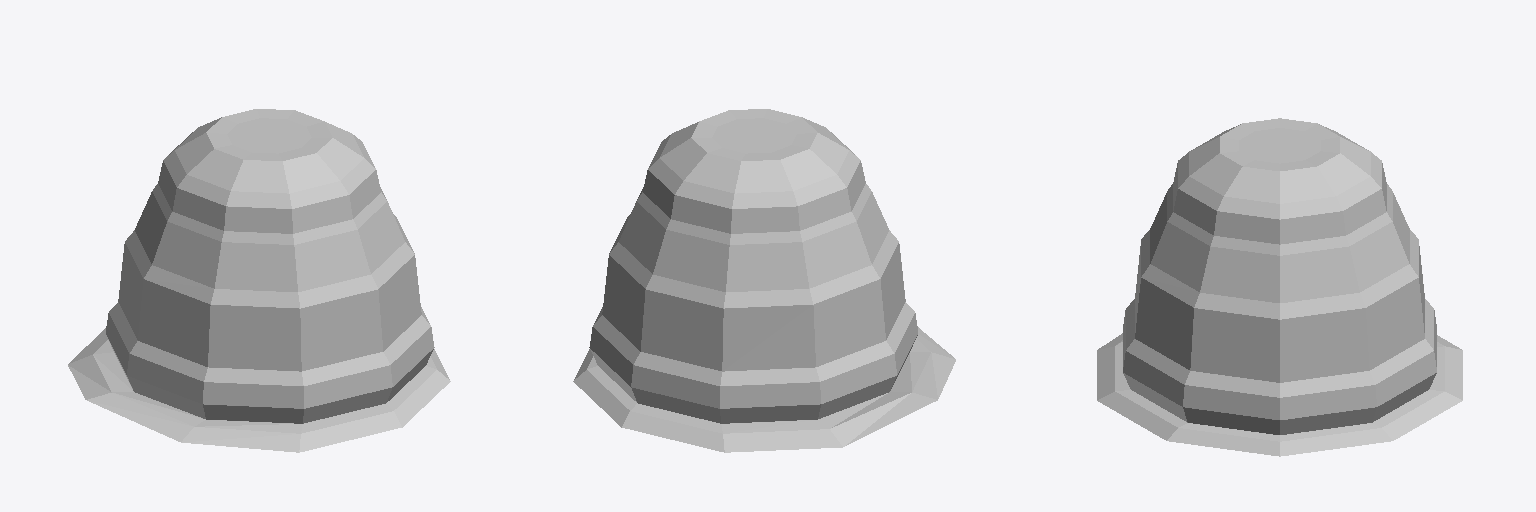
The model's file is bigslam.obj.
The picture shows the model from 3 angles: view 1: azimuth 30°, elevation 25°; view 2: azimuth 150°, elevation 25°; view 3: azimuth 270°, elevation 25°; orthographic projection.
Parts seen in each view (by area): view 1: pCylinder1; view 2: pCylinder1; view 3: pCylinder1.
Part boxes in pixels (bbox=[...]): pCylinder1: bbox=[68, 109, 450, 452]; pCylinder1: bbox=[573, 109, 955, 452]; pCylinder1: bbox=[1097, 118, 1462, 456].
Bounding box in the file's own units: 3.67 × 2.43 × 3.42.